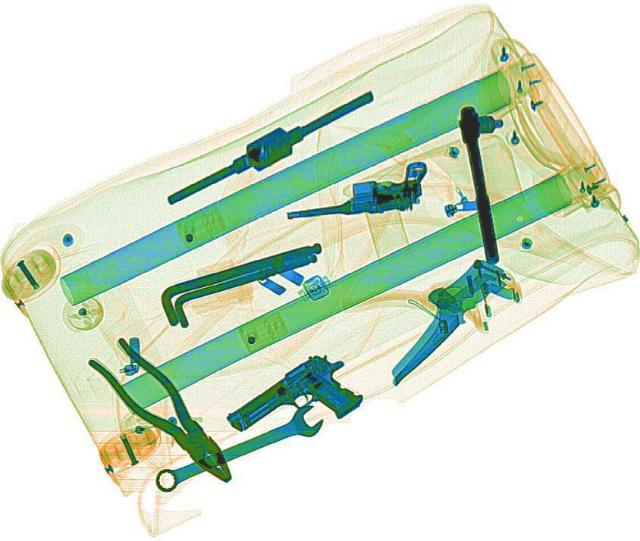Gun: (220, 343, 376, 460), (278, 158, 434, 221)
Pliers: (79, 332, 249, 490)
Wrench: (145, 400, 331, 497)
